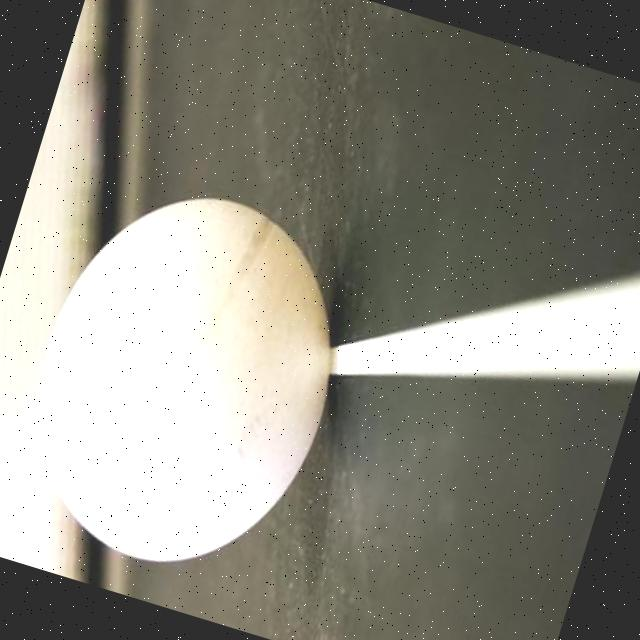ping-pong-ball: (0, 155, 379, 599)
